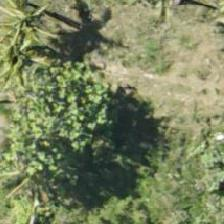coconut_tree: (0, 0, 70, 79)
